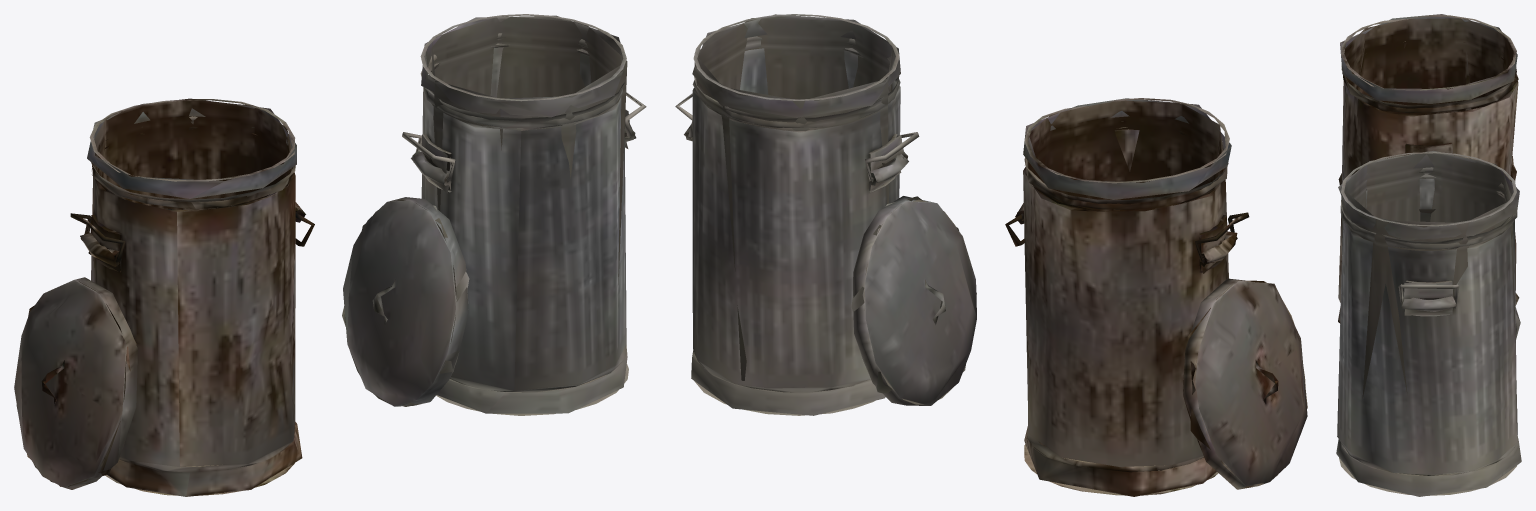
The model's file is metal_trash_can.glb.
The picture shows the model from 3 angles, left to right: view 1: azimuth 30°, elevation 25°; view 2: azimuth 150°, elevation 25°; view 3: azimuth 270°, elevation 25°; orthographic projection. The views are drawn at different scales.
Parts seen in each view (by area): view 1: metal_trash_can; view 2: metal_trash_can; view 3: metal_trash_can.
Part boxes in pixels (x1,y1,x2,y2): metal_trash_can: [14, 14, 646, 496]; metal_trash_can: [675, 14, 1307, 496]; metal_trash_can: [1336, 14, 1521, 496].
Bounding box in the file's own units: 1.78 × 0.9072 × 0.5677.
3 materials, 3 textured.
